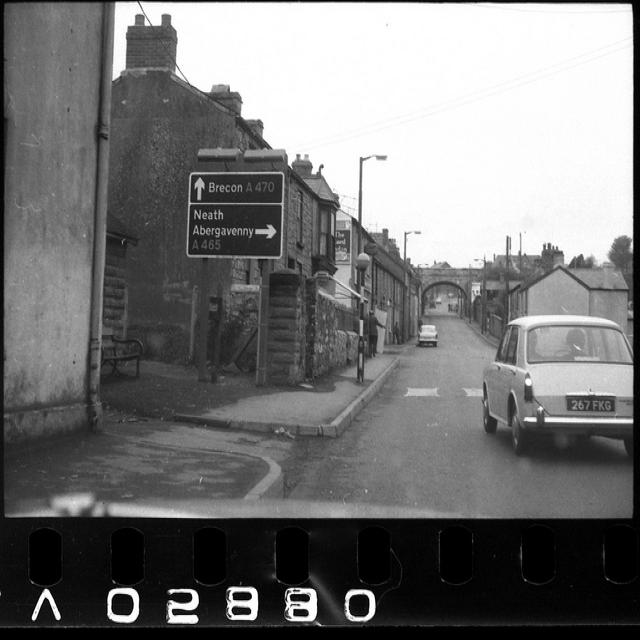Vehicle: (482, 314, 635, 458), (418, 324, 438, 347), (450, 301, 459, 313)
